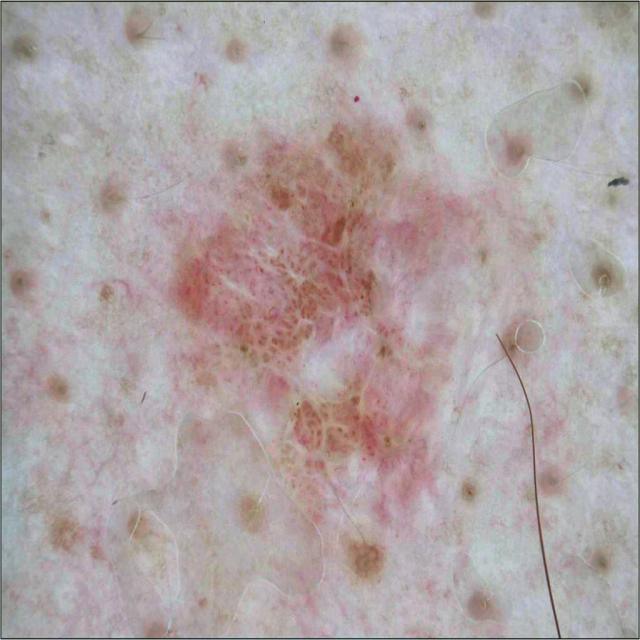Melanocytic-Nevi-NV-: (90, 100, 536, 572)
